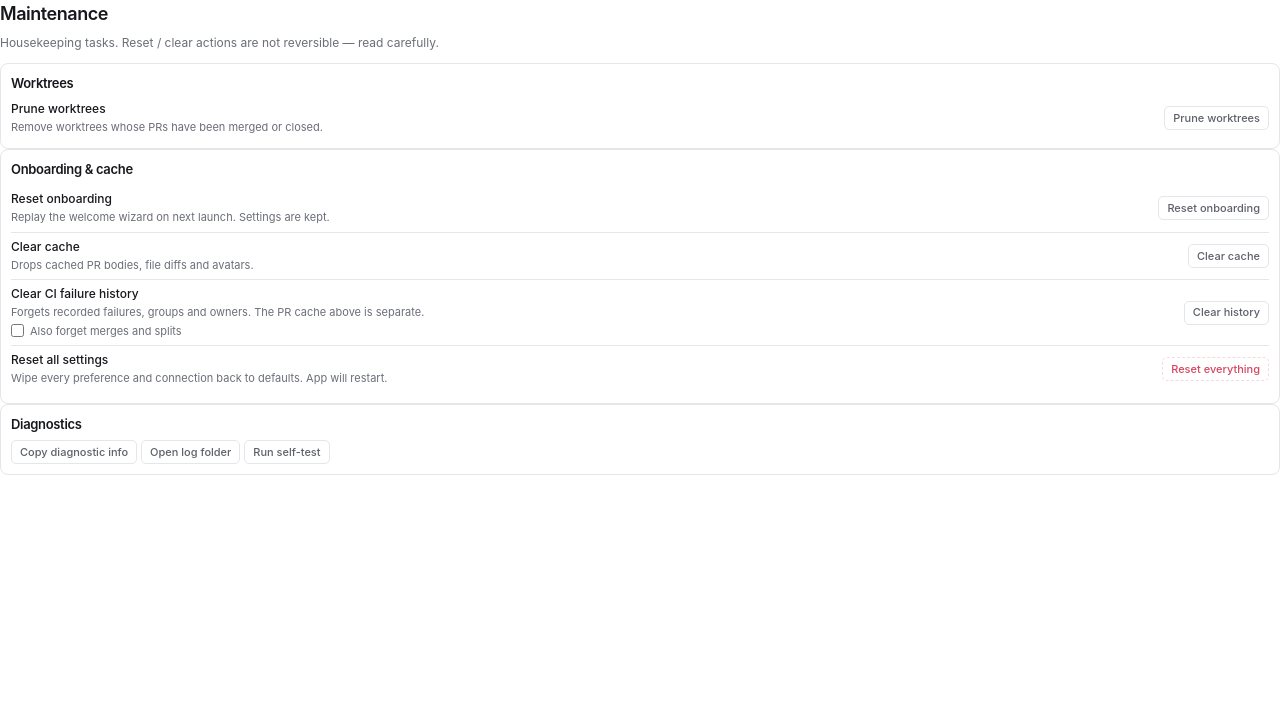
it: MaintenanceSection › clicking "Reset everything" shows the confirm dialog with Cancel and Reset buttons
This screenshot has width=1280, height=720.
Check: the text "Reset everything?" is not shown
Click the button "Reset everything". click: (1216, 369)
box: [1162,357,1269,381]
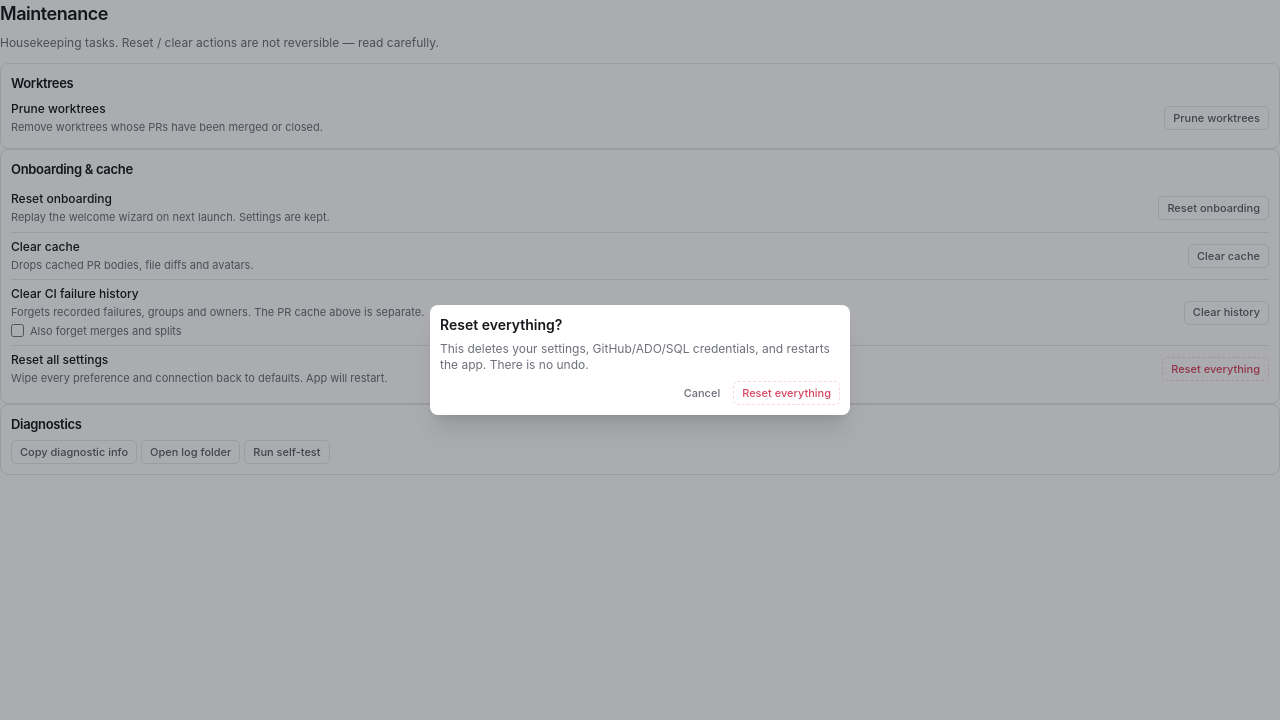
Check: the heading "Reset everything?" is shown, box [440,316,562,333]
Check: the button "Cancel" is shown, box [675,381,729,405]
